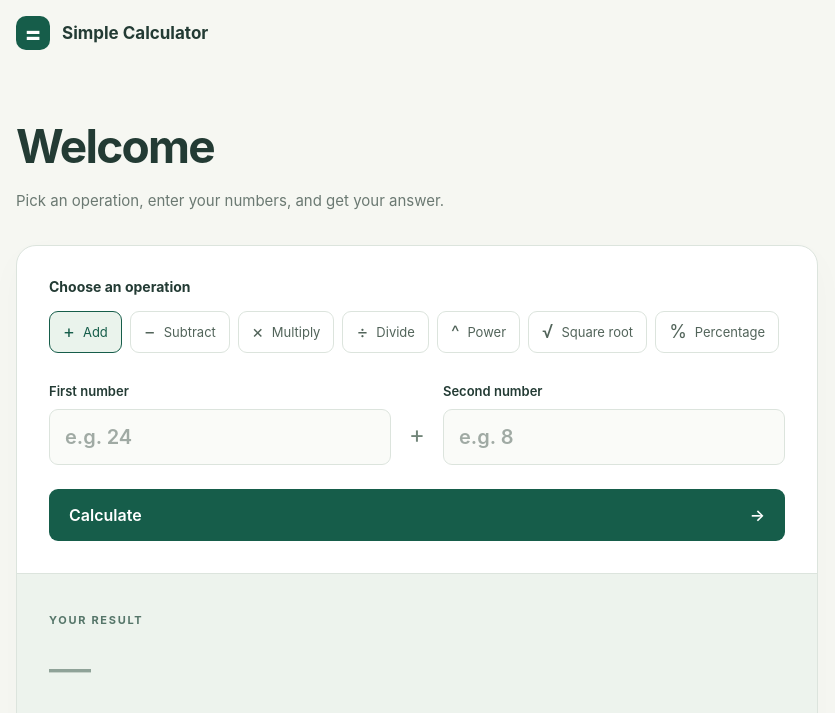
Test: Calculator › shows server validation errors
Type "4" into the number field labelled "First number". click: (220, 437)
box: [49,409,391,465]
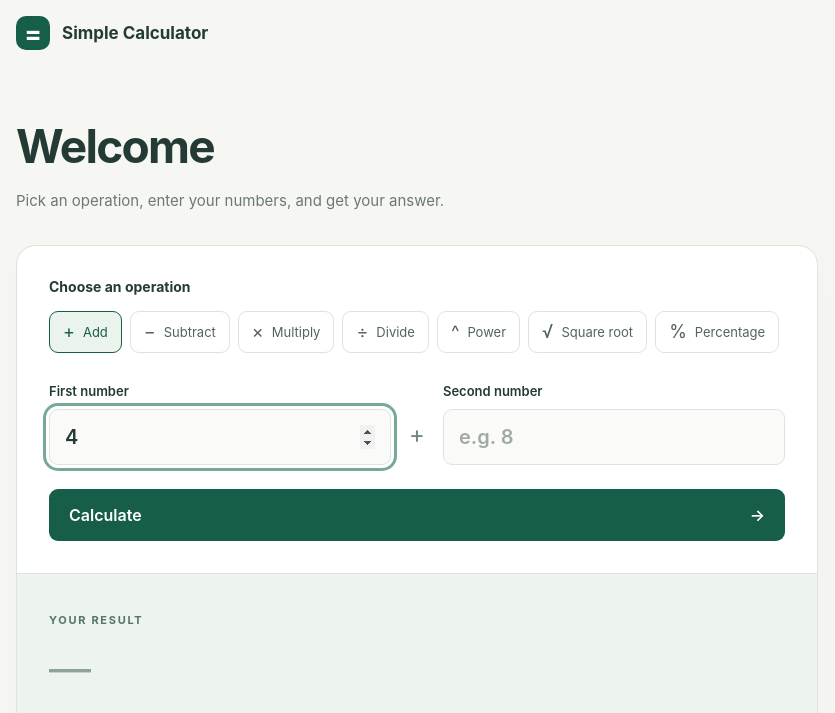
Type "0" into the number field labelled "Second number". click: (614, 437)
box: [443,409,785,465]
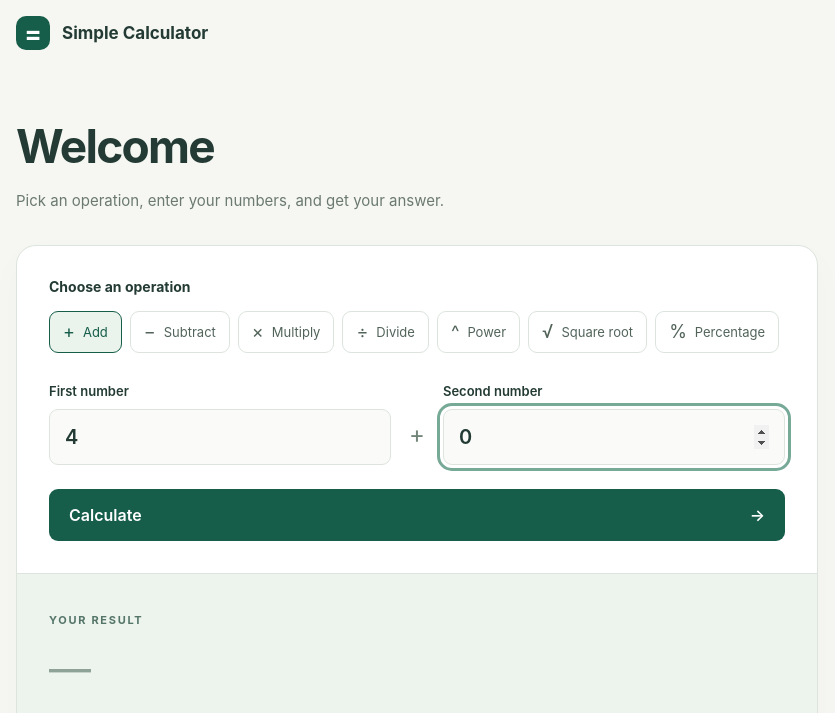
Click the button "÷ Divide". click: click(386, 332)
box: [342,311,429,353]
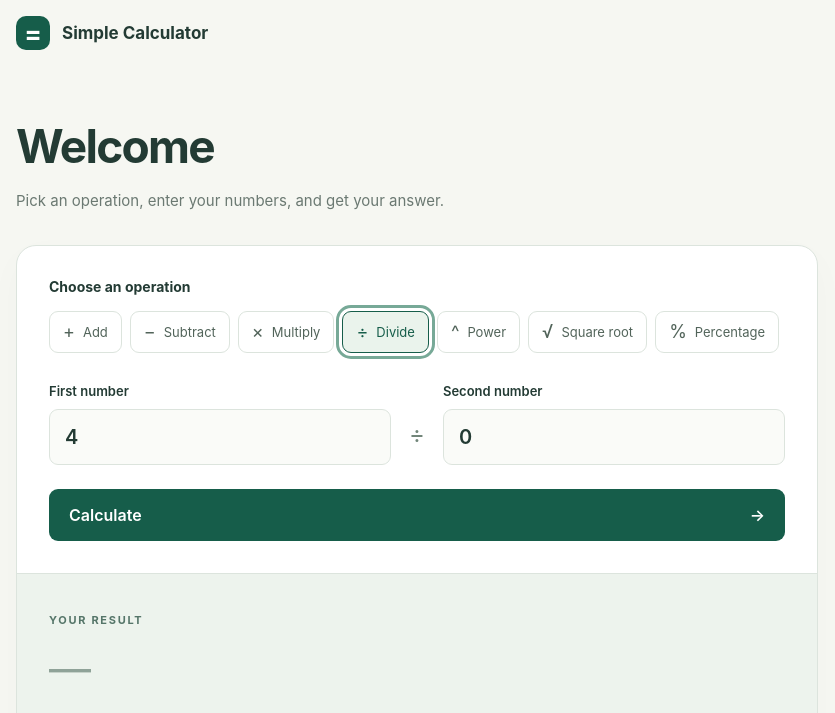
Click the button "Calculate →". click: click(105, 515)
box: [49,489,785,541]
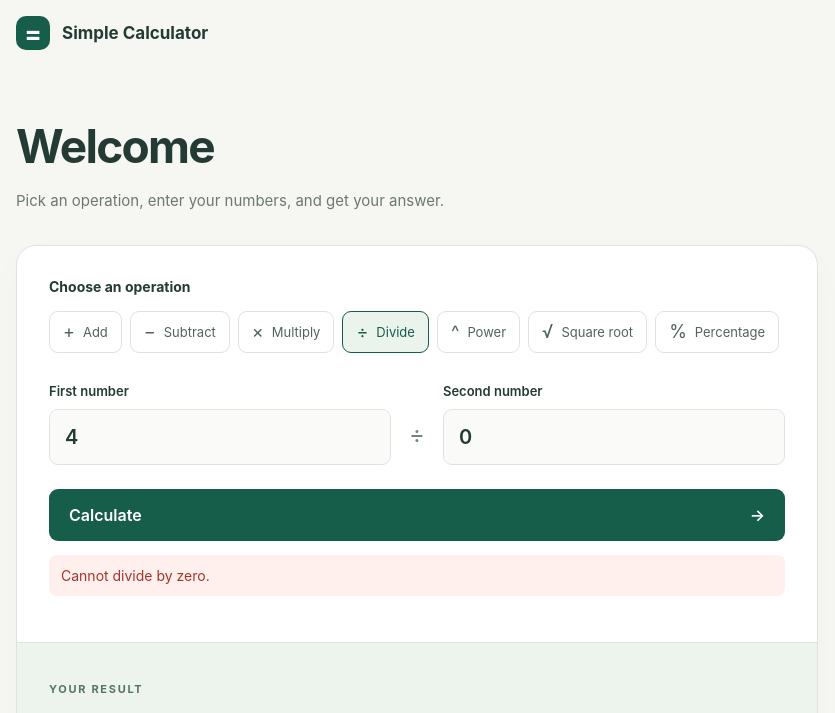
Now the message "Cannot divide by zero." is shown, box [49,555,785,596]
